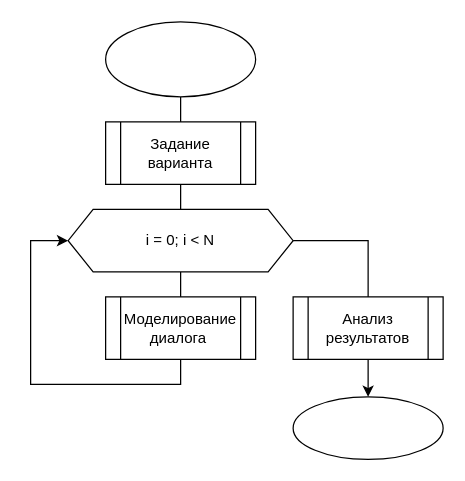
The diagram is 465 pixels wide and 481 high, and some of its shapes have lost their labels. Here are the shapes that lost their labels. From the top down, the box of each, then its label:
(104, 21, 256, 97): Начало
(292, 396, 443, 459): Конец
